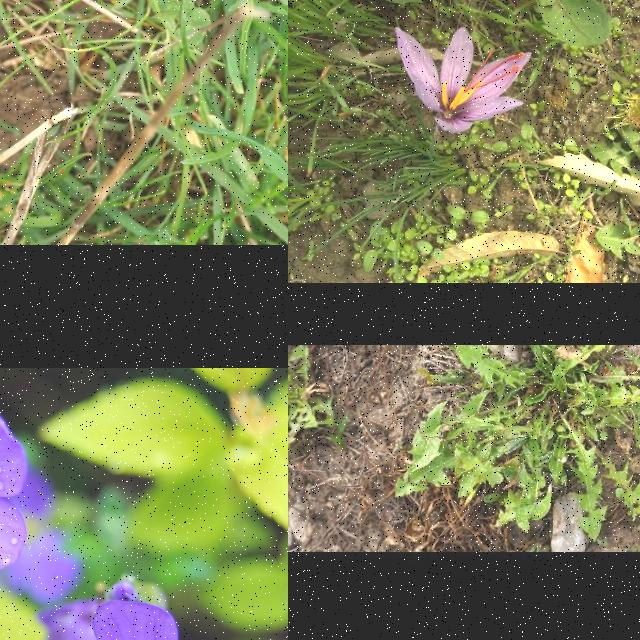flower: (398, 28, 532, 134)
